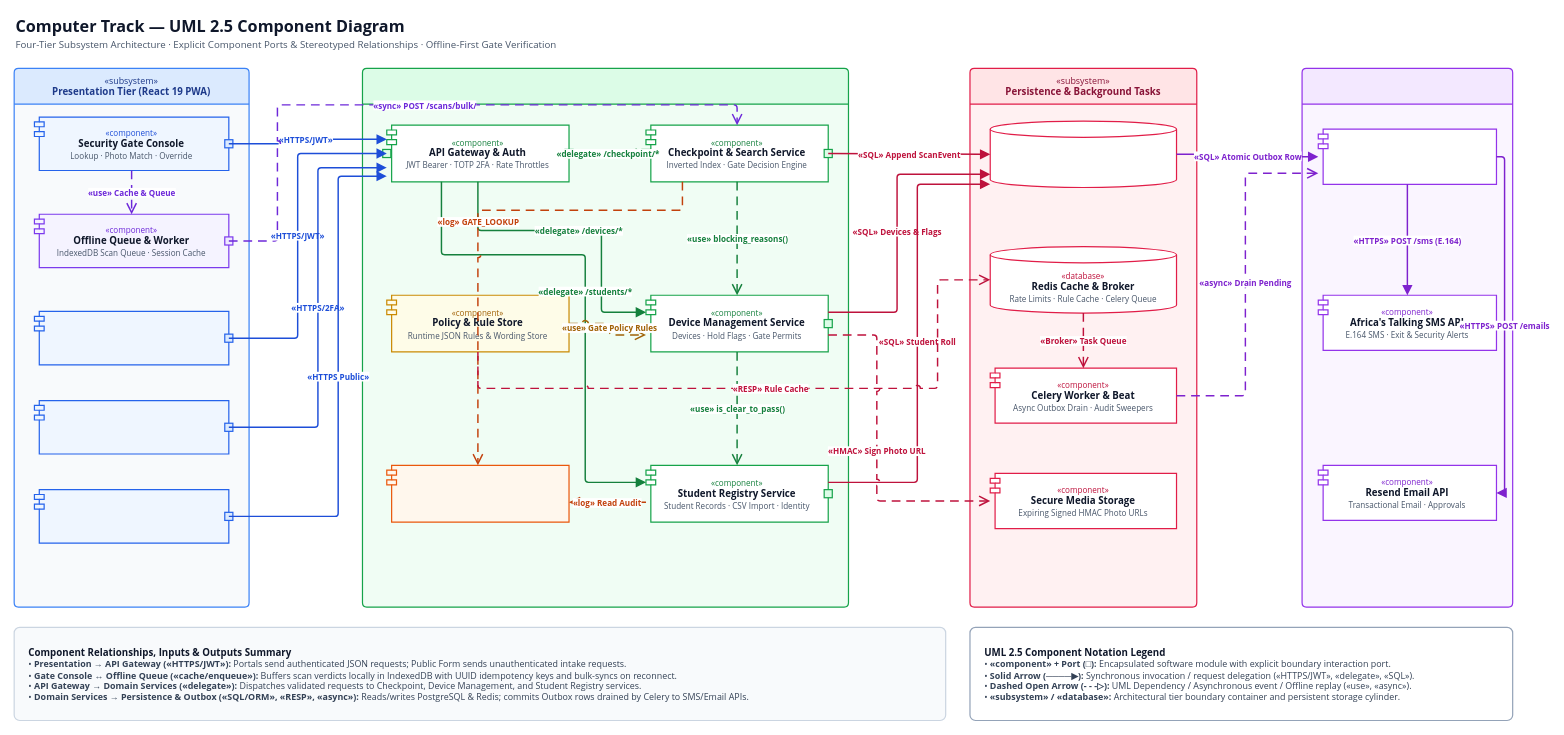
Image size: 1564x735. Some labels were removed from this diagram. Here are the shapes that lost their labels. From the top down, the box of each, then its label:
(989, 120, 1177, 188): «database» PostgreSQL Database Domain Models · Append-Only Scans
(1317, 128, 1497, 185): «component» Transactional Outbox Atomic Outbox Table · Templates
(33, 310, 229, 365): «component» Registration Office Portal Approvals · Hold Flags · Permits
(362, 67, 849, 607): «subsystem» Application Tier (Django 5 REST API)
(1301, 67, 1513, 607): «subsystem» Notification & Cloud Gateways
(33, 400, 229, 454): «component» Administration Dashboard Staff · Policy Rules · Read-Audit
(386, 464, 569, 522): «component» Read-Audit & Security Register Read Log · Anomaly Alerting
(33, 489, 229, 543): «component» Public Self-Service Form Unauthenticated Register & Loss Report
